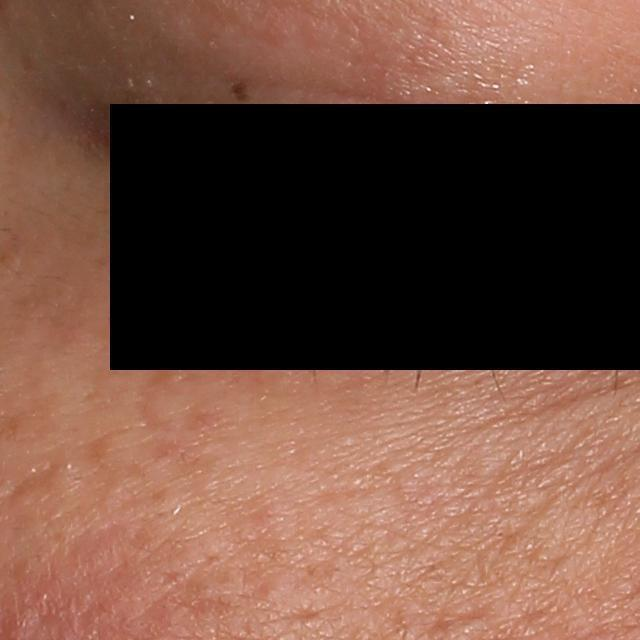nevus: (229, 78, 253, 107)
